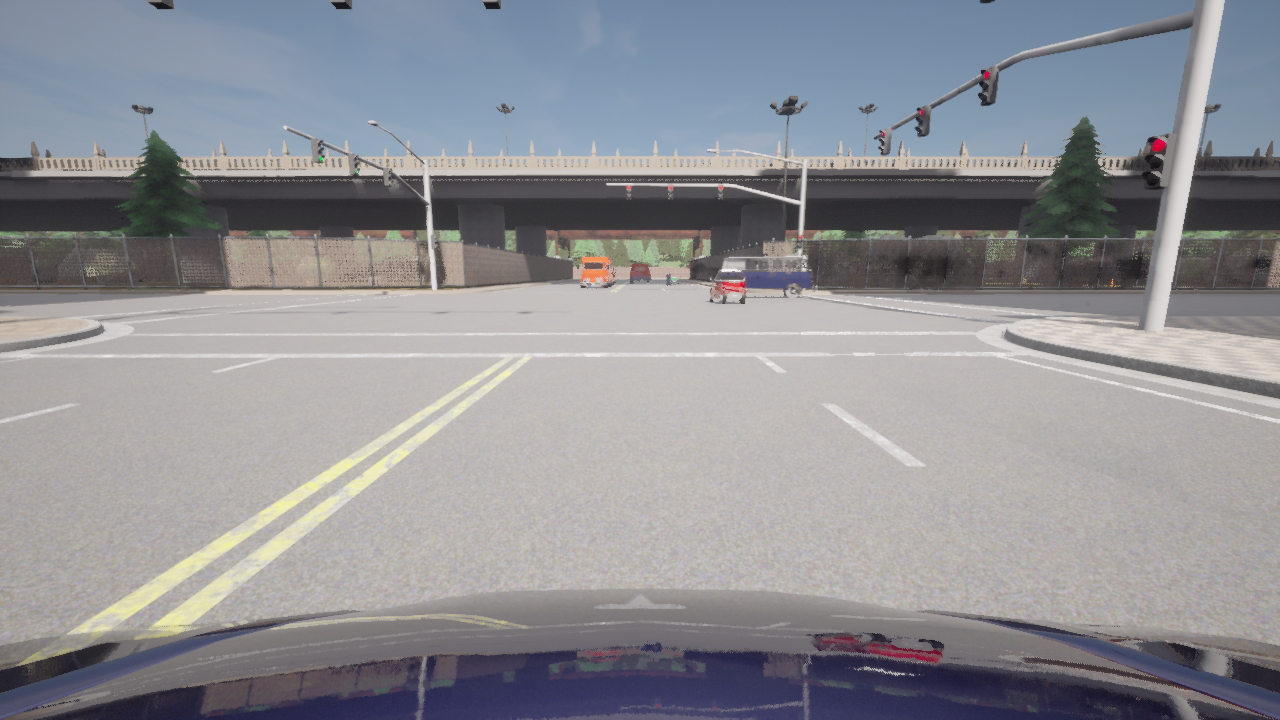cyclist: (0, 588, 1279, 719), (721, 255, 816, 298), (709, 268, 746, 304), (576, 257, 612, 288), (630, 263, 650, 282), (667, 271, 680, 284), (611, 265, 615, 284), (600, 284, 602, 285)
pedestrian: (333, 160, 335, 166)
